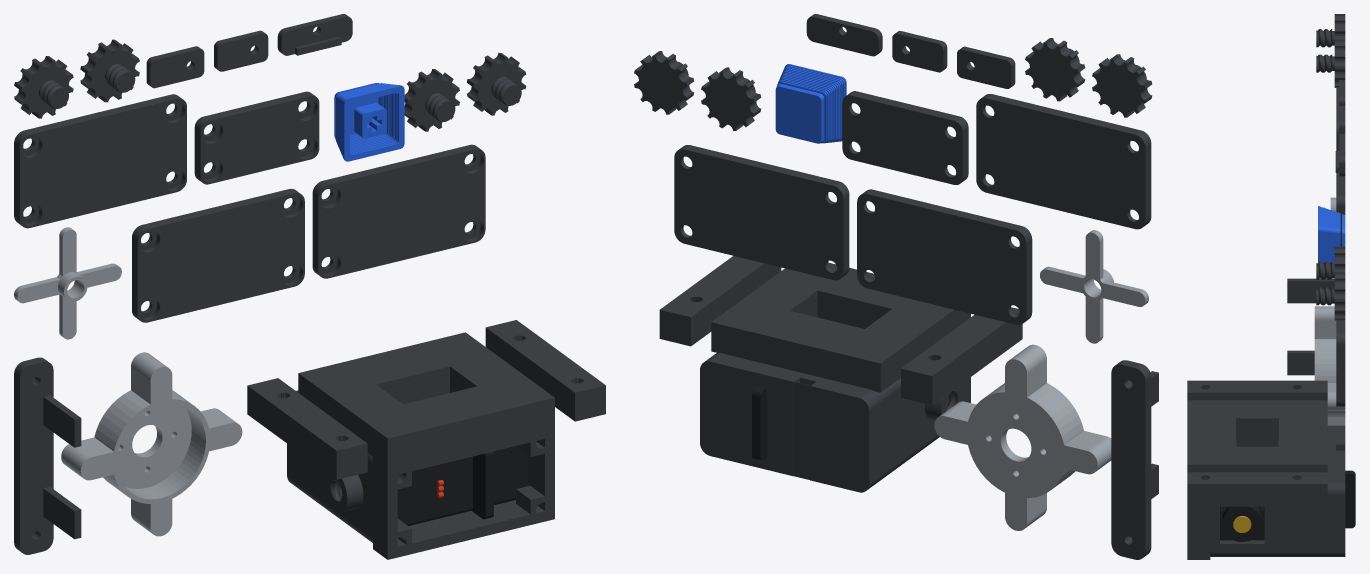
File: plate-5-small.glb
3 renders of one model, left to right at view 1: azimuth 30°, elevation 25°; view 2: azimuth 150°, elevation 25°; view 3: azimuth 270°, elevation 25°, orthographic. The views are drawn at different scales.
Parts seen in each view (by area): view 1: base-joint, cap-shoulder, cap-elbow, cap-base, horn-adapter, yoke-screw (×4), spk-clamp, cap-head, mg996r-body-base, keycap, horn-sg90, mic-tab (+3 smaller); view 2: base-joint, cap-elbow, cap-shoulder, cap-base, horn-adapter, yoke-screw (×4), cap-head, spk-clamp, keycap, horn-sg90, mic-tab, esp-tab (+2 smaller); view 3: base-joint, yoke-screw (×4), horn-adapter, spk-clamp, keycap, mg996r-boss-base, cap-shoulder, mg996r-tabs-base, cap-head, mic-tab, mg996r-body-base, mg996r-spline-base (+1 smaller).
Boxes of the visible parts, <box> form: base-joint: <box>247,320,605,559</box>; cap-shoulder: <box>312,144,485,278</box>; cap-elbow: <box>14,94,186,228</box>; cap-base: <box>132,189,304,322</box>; horn-adapter: <box>61,352,242,536</box>; yoke-screw (×4): <box>14,39,526,131</box>; spk-clamp: <box>14,357,81,554</box>; cap-head: <box>194,91,319,184</box>; mg996r-body-base: <box>397,446,527,525</box>; keycap: <box>334,83,404,161</box>; horn-sg90: <box>14,227,121,339</box>; mic-tab: <box>277,14,352,55</box>; base-joint: <box>659,256,1022,492</box>; cap-elbow: <box>976,94,1151,229</box>; cap-shoulder: <box>674,145,849,280</box>; cap-base: <box>857,189,1032,324</box>; horn-adapter: <box>934,344,1111,530</box>; yoke-screw (×4): <box>634,38,1152,130</box>; cap-head: <box>842,91,968,184</box>; spk-clamp: <box>1111,360,1158,559</box>; keycap: <box>775,64,846,143</box>; horn-sg90: <box>1040,230,1148,343</box>; mic-tab: <box>806,14,882,56</box>; esp-tab: <box>957,46,1015,88</box>; base-joint: <box>1187,380,1345,559</box>; yoke-screw (×4): <box>1316,14,1345,320</box>; horn-adapter: <box>1314,306,1345,425</box>; spk-clamp: <box>1287,278,1334,375</box>; keycap: <box>1318,206,1345,263</box>; mg996r-boss-base: <box>1222,506,1261,541</box>; cap-shoulder: <box>1336,320,1345,406</box>; mg996r-tabs-base: <box>1345,470,1355,528</box>; cap-head: <box>1336,173,1345,246</box>; mic-tab: <box>1335,133,1345,176</box>; mg996r-body-base: <box>1220,506,1264,540</box>; mg996r-spline-base: <box>1233,516,1251,532</box>.
Bounding box in the file's own units: 150 × 139 × 55.15.
